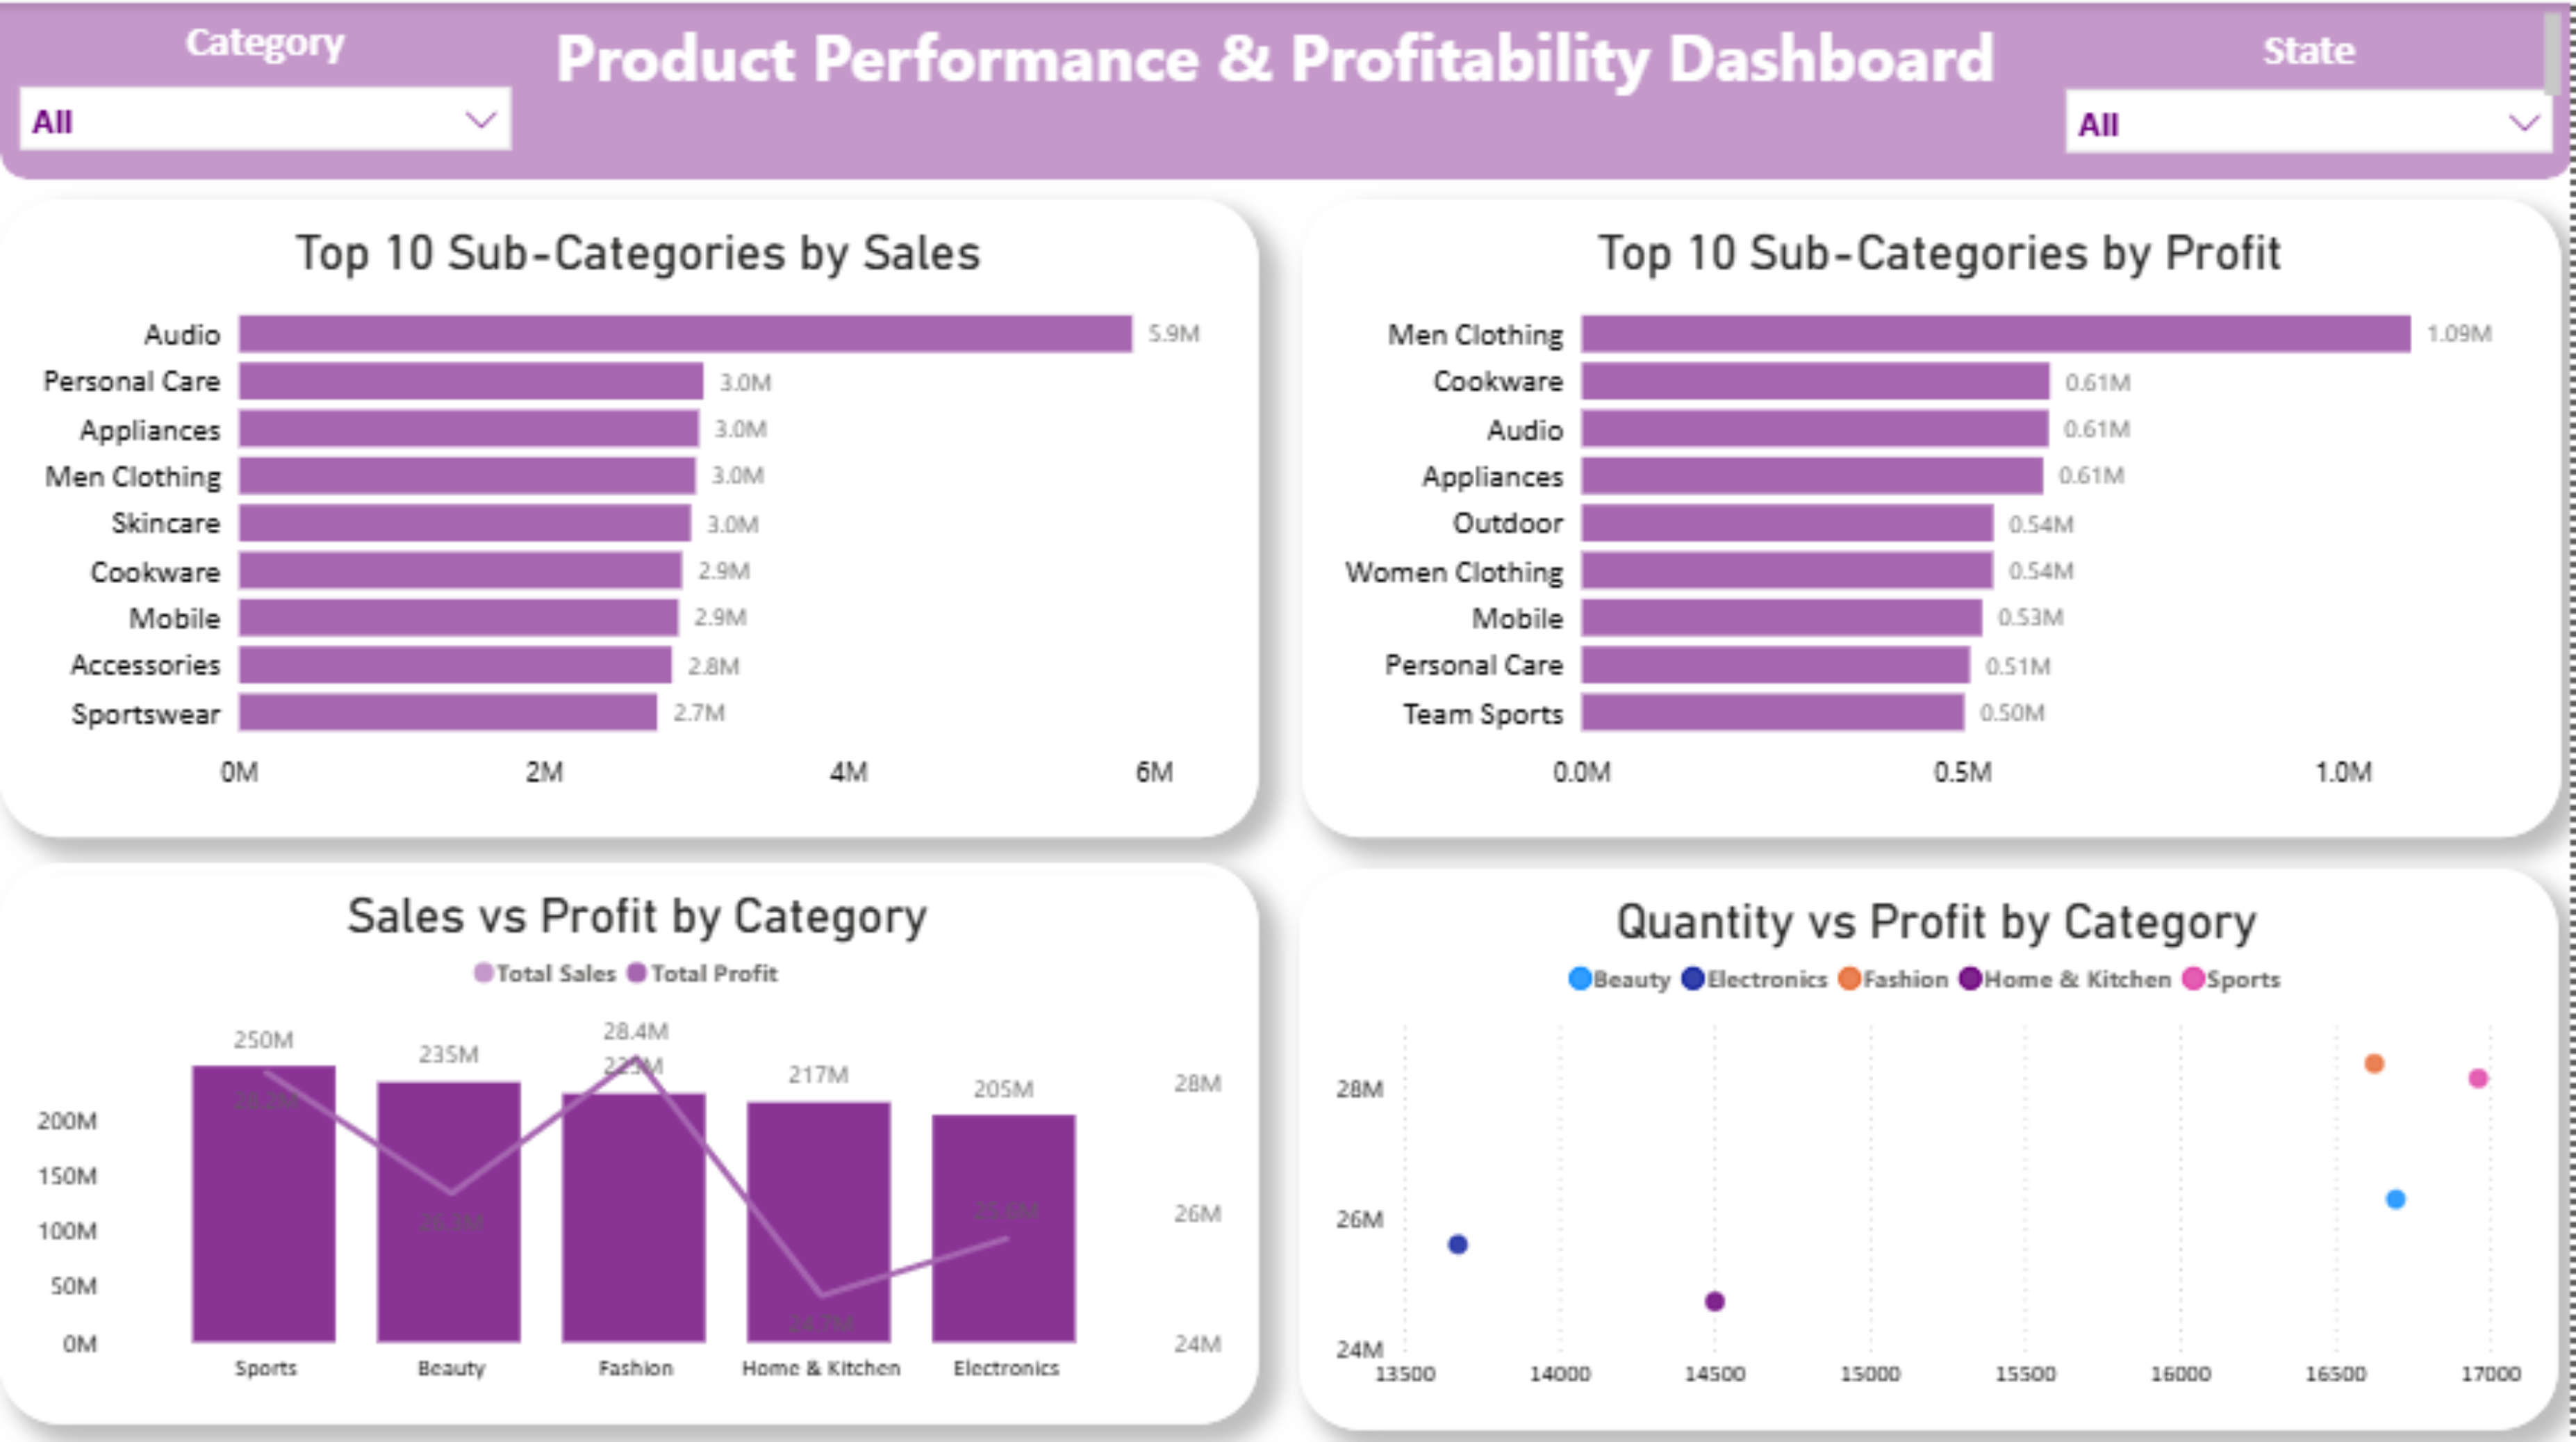

This screenshot's page, from the dashboard's own definition file:
{"tool":"powerbi","page":{"name":"Page 2","canvas":[1280,720],"ordinal":1},"visuals":[{"type":"shape","box":[0,0,1280.2,87.8],"z":0},{"type":"barChart","title":"Top 10 Sub-Categories by Sales","fields":{"Y":["DateTable.Total Sales"],"Category":["ecommerce_analytics products_clean.sub_category"]},"box":[0,97.9,626.4,316.8],"z":1000},{"type":"barChart","title":"Top 10 Sub-Categories by Profit","fields":{"Y":["DateTable.Total Profit"],"Category":["ecommerce_analytics products_clean.sub_category"]},"box":[648,97.9,626.4,316.8],"z":2000},{"type":"slicer","title":"Category","fields":{"Values":["ecommerce_analytics products_clean.category"]},"box":[0,5.8,263.5,90.7],"z":3000},{"type":"slicer","title":"State","fields":{"Values":["ecommerce_analytics customers_clean.state"]},"box":[1017.9,10.1,262.1,90.7],"z":4000},{"type":"lineClusteredColumnComboChart","title":"Sales vs Profit by Category","fields":{"Category":["ecommerce_analytics products_clean.category"],"Y":["DateTable.Total Sales"],"Y2":["DateTable.Total Profit"]},"box":[0,427.7,626.4,279.4],"z":5000},{"type":"scatterChart","title":"Quantity vs Profit by Category","fields":{"X":["Sum(ecommerce_analytics order_details_clean.quantity)"],"Y":["DateTable.Total Profit"],"Series":["ecommerce_analytics products_clean.category"]},"box":[646.6,430.6,626.4,279.4],"z":6000},{"type":"textbox","box":[0,0,1278.7,51.8],"z":7000}]}

Visuals, with their boxes in screenshot pixels (x1, y1, x2, y2), scaled from the page's 1280x720 canvas onto the 2576x1442 screenshot:
shape: <region>0, 0, 2575, 176</region>
"Top 10 Sub-Categories by Sales" barChart: <region>0, 196, 1261, 830</region>
"Top 10 Sub-Categories by Profit" barChart: <region>1304, 196, 2565, 830</region>
"Category" slicer: <region>0, 12, 530, 193</region>
"State" slicer: <region>2049, 20, 2575, 202</region>
"Sales vs Profit by Category" lineClusteredColumnComboChart: <region>0, 857, 1261, 1416</region>
"Quantity vs Profit by Category" scatterChart: <region>1301, 862, 2562, 1422</region>
textbox: <region>0, 0, 2573, 104</region>
